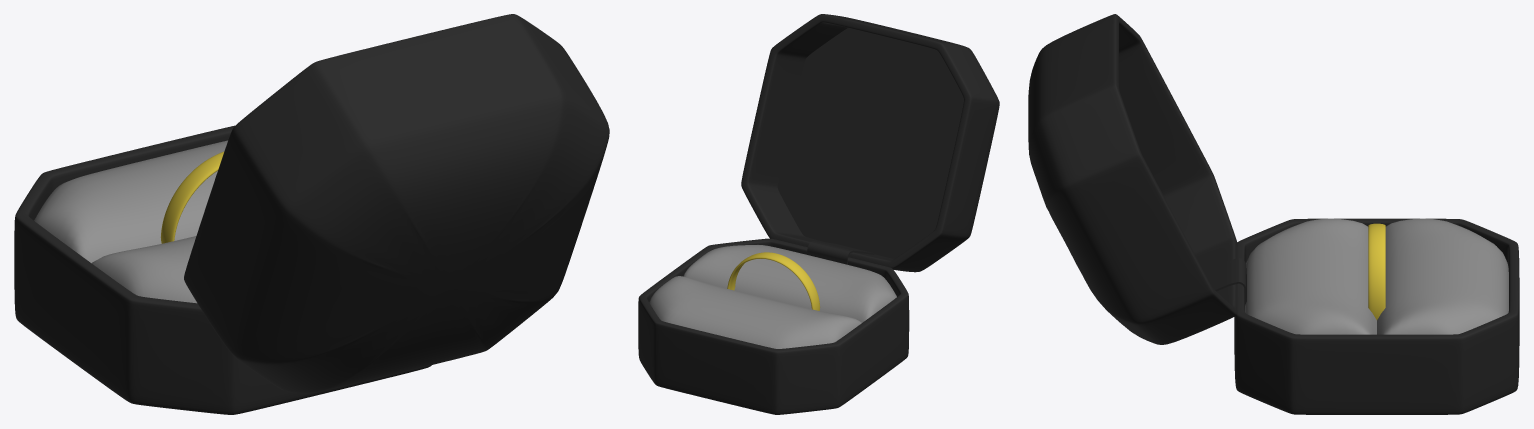
File: alyans.fbx
3 renders of one model, left to right at view 1: azimuth 30°, elevation 25°; view 2: azimuth 150°, elevation 25°; view 3: azimuth 270°, elevation 25°, orthographic. The views are drawn at different scales.
Parts seen in each view (by area): view 1: üst, alt, yüzük1; view 2: üst, alt, yüzük1; view 3: alt, üst, yüzük1.
Part boxes in pixels (x1,y1,x2,y2): üst: (184,14,609,393); alt: (14,125,431,414); yüzük1: (160,151,224,243); üst: (741,14,999,272); alt: (638,238,909,414); yüzük1: (727,252,820,310); alt: (1234,218,1519,414); üst: (1028,14,1238,344); yüzük1: (1368,223,1385,319).
Size of the model in its own units: 0.0489 by 0.0583 by 0.0842.
